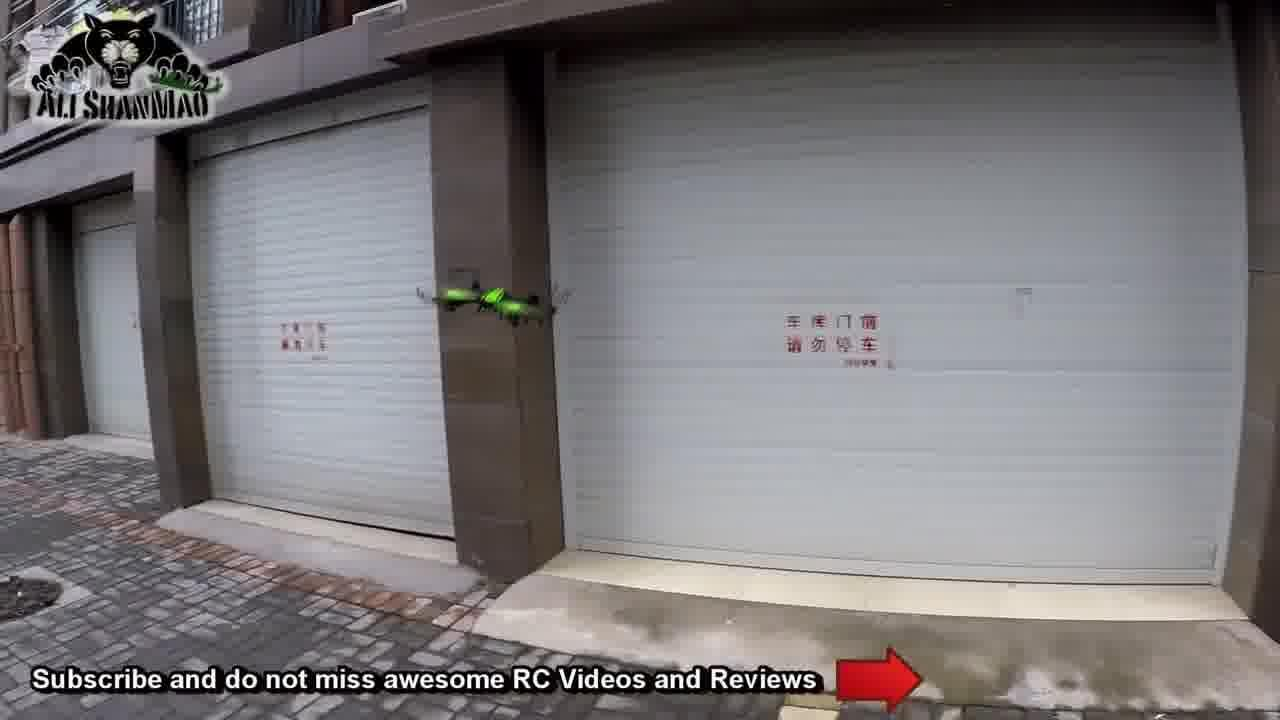drone: (420, 264, 563, 334)
